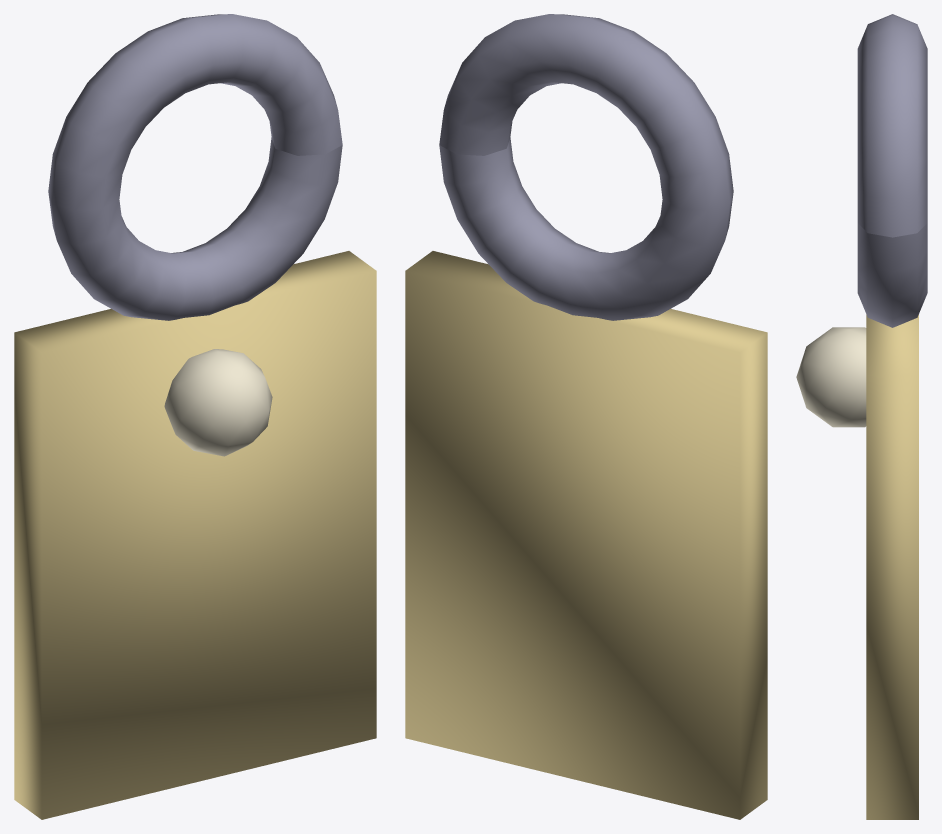
The model's file is alexandria.glb.
The picture shows the model from 3 angles, left to right: view 1: azimuth 30°, elevation 25°; view 2: azimuth 150°, elevation 25°; view 3: azimuth 270°, elevation 25°; orthographic projection. The views are drawn at different scales.
Parts seen in each view (by area): view 1: alexandria; view 2: alexandria; view 3: alexandria.
Part boxes in pixels (x1,y1,x2,y2): alexandria: [14, 14, 376, 819]; alexandria: [405, 14, 767, 819]; alexandria: [796, 14, 927, 819].
Size of the model in its own units: 0.042 by 0.09 by 0.015.
